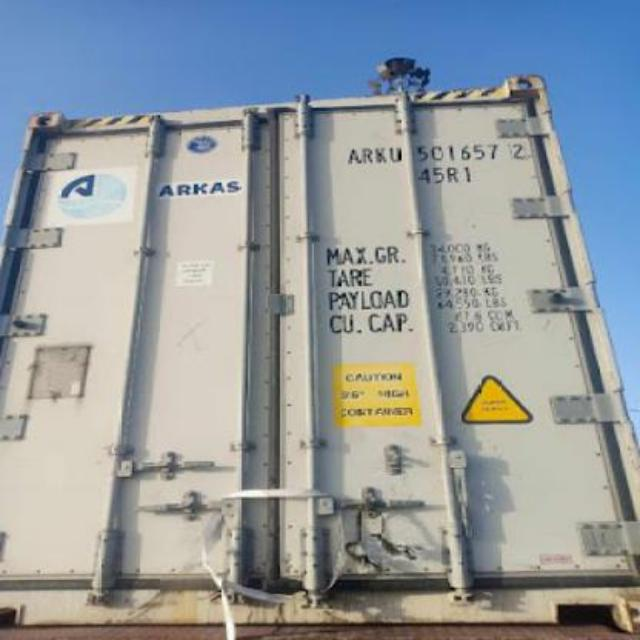0: (428, 143, 448, 161)
1: (446, 142, 456, 164)
2: (508, 142, 530, 162)
5: (470, 143, 488, 161), (416, 146, 432, 164)
6: (456, 143, 474, 161)
7: (484, 144, 504, 160)
A: (346, 147, 362, 165)
K: (372, 145, 390, 165)
R: (360, 146, 376, 164)
U: (388, 146, 402, 164)
